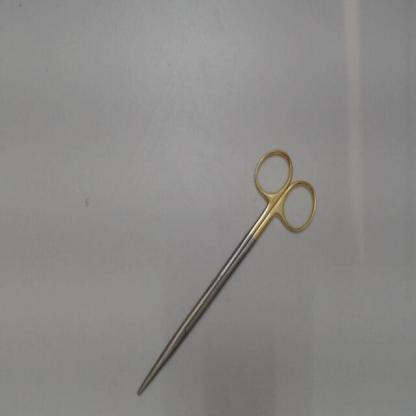7 Metzenbaum Scissors: (136, 144, 318, 398)
